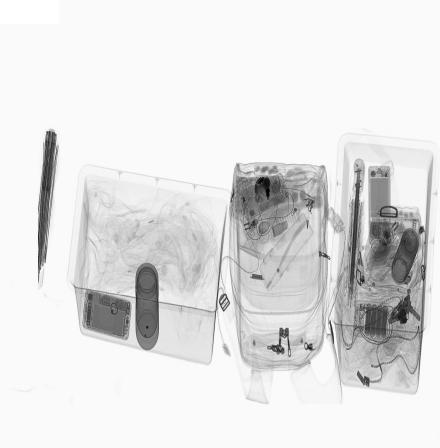Powerbank: (354, 303, 387, 339)
